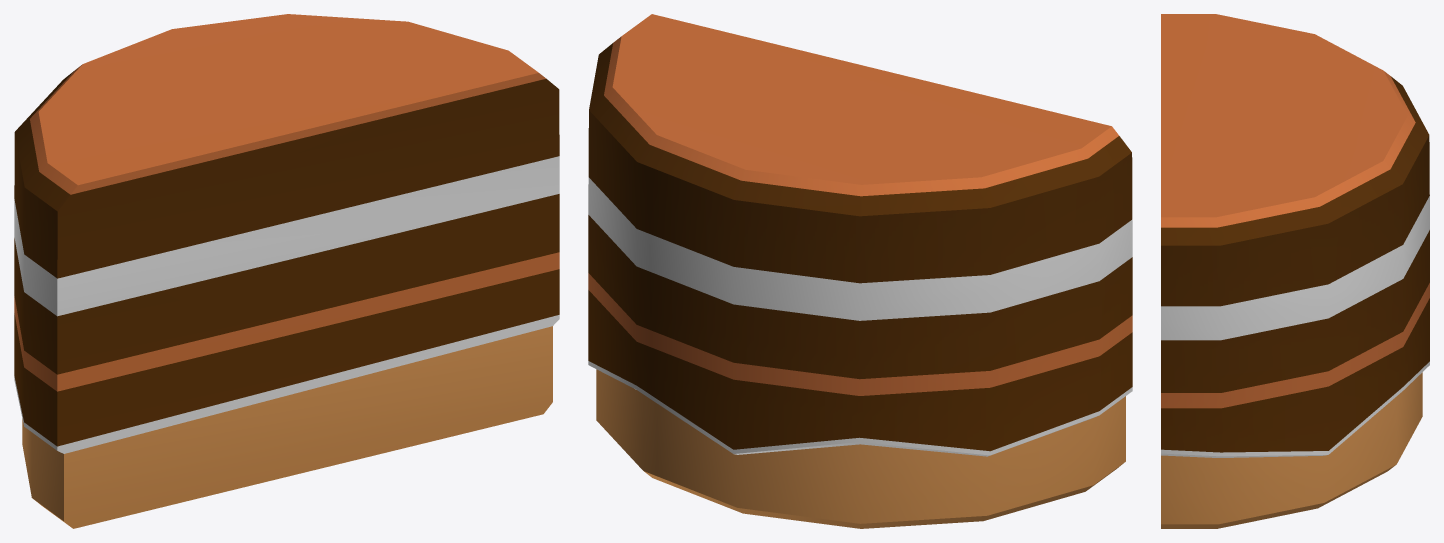
The model's file is Cake_4 Half_1.fbx.
The picture shows the model from 3 angles, left to right: view 1: azimuth 30°, elevation 25°; view 2: azimuth 150°, elevation 25°; view 3: azimuth 270°, elevation 25°; orthographic projection. The views are drawn at different scales.
Visible parts, largest first — view 1: Cake_4 Half_1; view 2: Cake_4 Half_1; view 3: Cake_4 Half_1.
Part boxes in pixels (bbox=[...]): Cake_4 Half_1: bbox=[14, 14, 559, 528]; Cake_4 Half_1: bbox=[588, 14, 1132, 528]; Cake_4 Half_1: bbox=[1161, 14, 1429, 528].
Bounding box in the file's own units: 0.2645 × 0.1723 × 0.1356.
